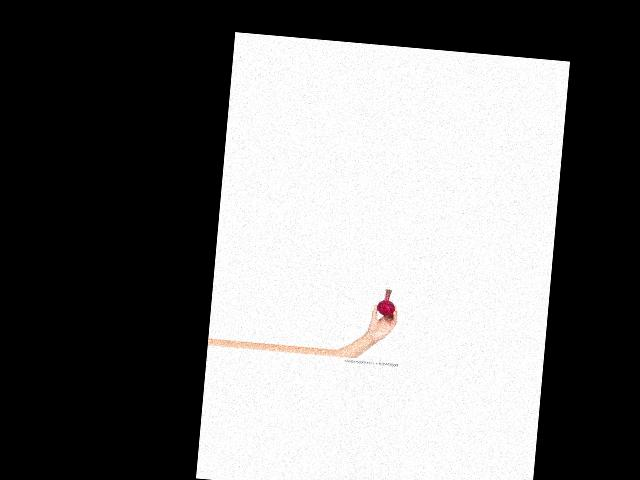beet: (376, 288, 397, 316)
